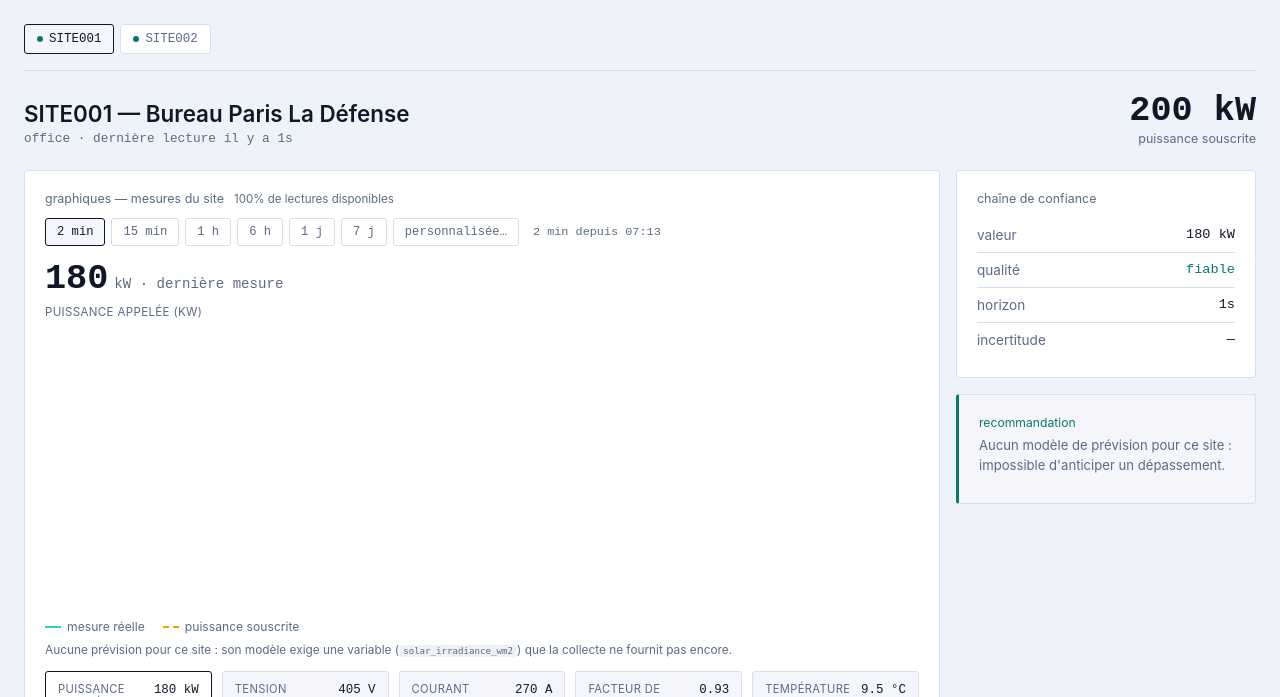
Test: DashboardView › change de site instantanément au clic, sans nouvel appel de mesures
Click the button with class "site-pill" showing "SITE002" at (166, 39), box [120,24,211,54]
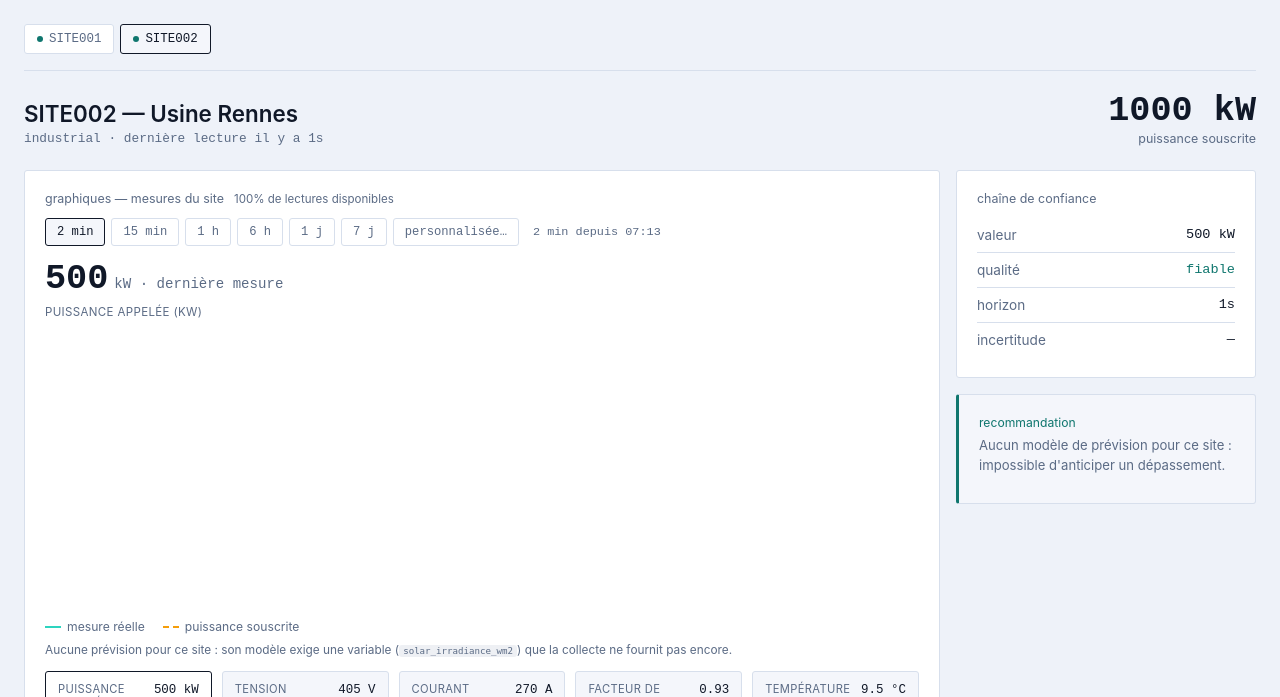
Expected: the text "Usine Rennes" is shown, [24,100,298,127]
